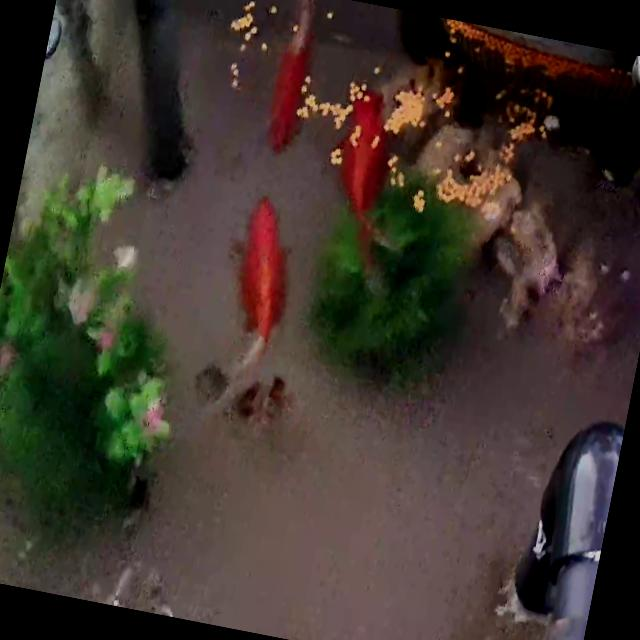fish: (197, 191, 304, 420), (328, 89, 402, 236), (260, 0, 326, 158)
